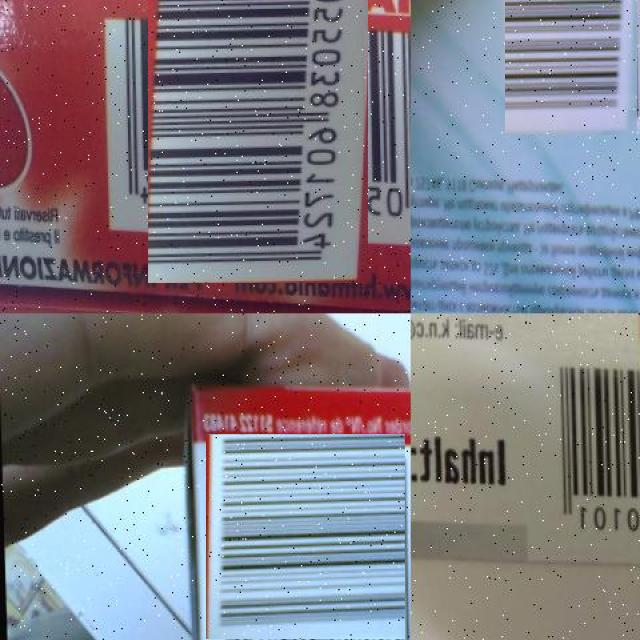Barcode: (127, 0, 390, 262), (203, 437, 409, 640), (543, 357, 640, 553), (504, 0, 639, 134)
